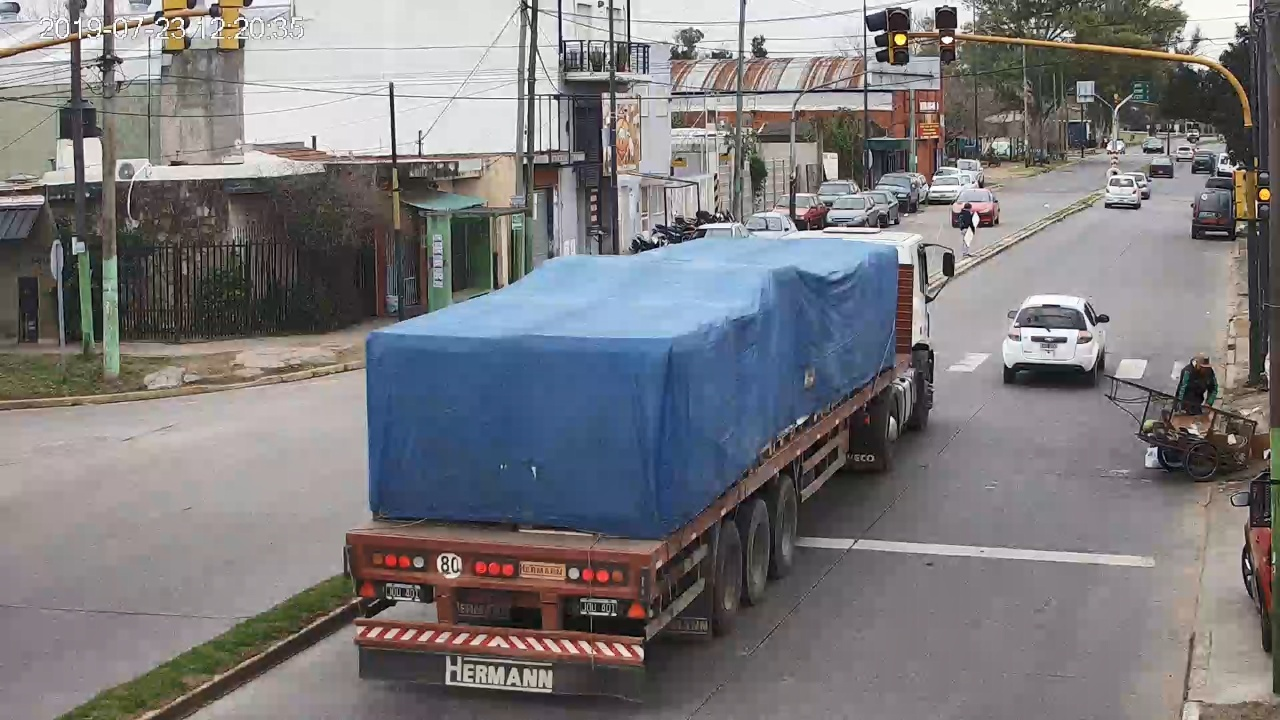car: (1001, 294, 1108, 382)
traffic light: (936, 7, 957, 62), (890, 8, 910, 64), (1258, 169, 1269, 219)
truck: (345, 228, 954, 704)
